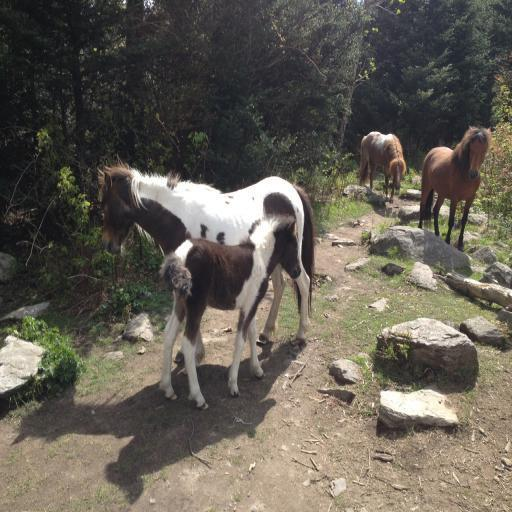horse: (96, 152, 316, 376), (162, 213, 302, 411), (416, 123, 492, 252), (358, 128, 406, 204)
